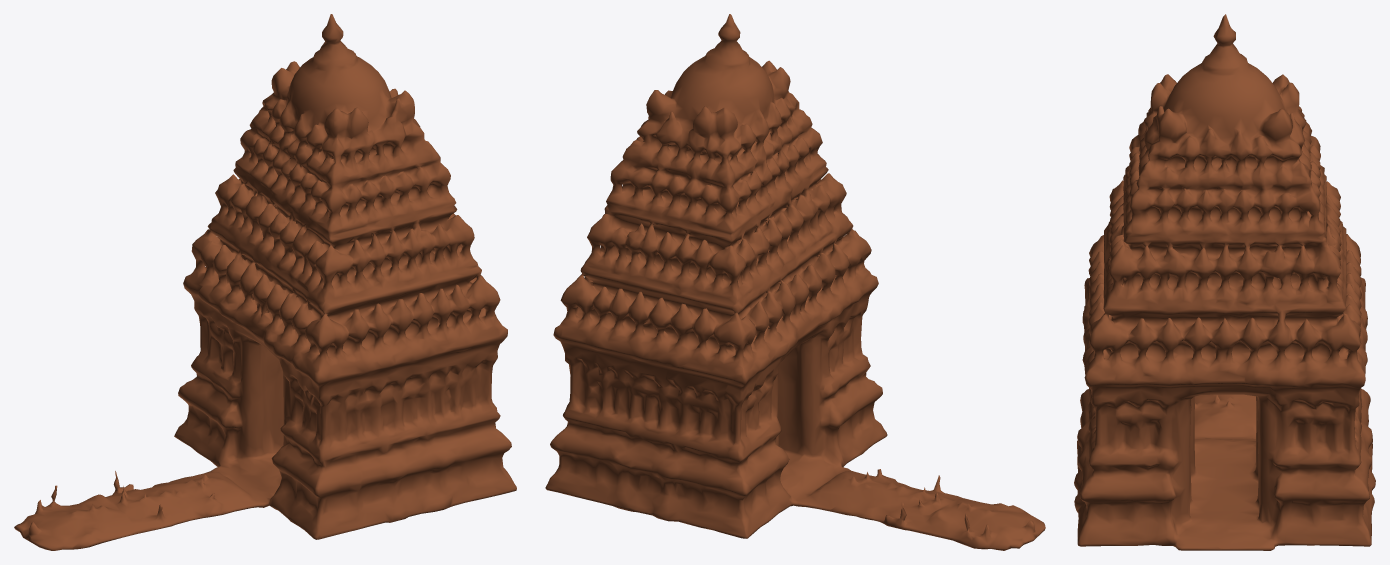
The model's file is Achyutaraya Temple.glb.
The picture shows the model from 3 angles, left to right: view 1: azimuth 30°, elevation 25°; view 2: azimuth 150°, elevation 25°; view 3: azimuth 270°, elevation 25°; orthographic projection. The views are drawn at different scales.
Visible parts, largest first — view 1: tmpmz5tujqp.ply; view 2: tmpmz5tujqp.ply; view 3: tmpmz5tujqp.ply.
Part boxes in pixels (bbox=[...]): tmpmz5tujqp.ply: bbox=[14, 14, 516, 550]; tmpmz5tujqp.ply: bbox=[545, 14, 1045, 550]; tmpmz5tujqp.ply: bbox=[1074, 14, 1375, 550].
Bounding box in the file's own units: 1.95 × 1.96 × 1.13.
